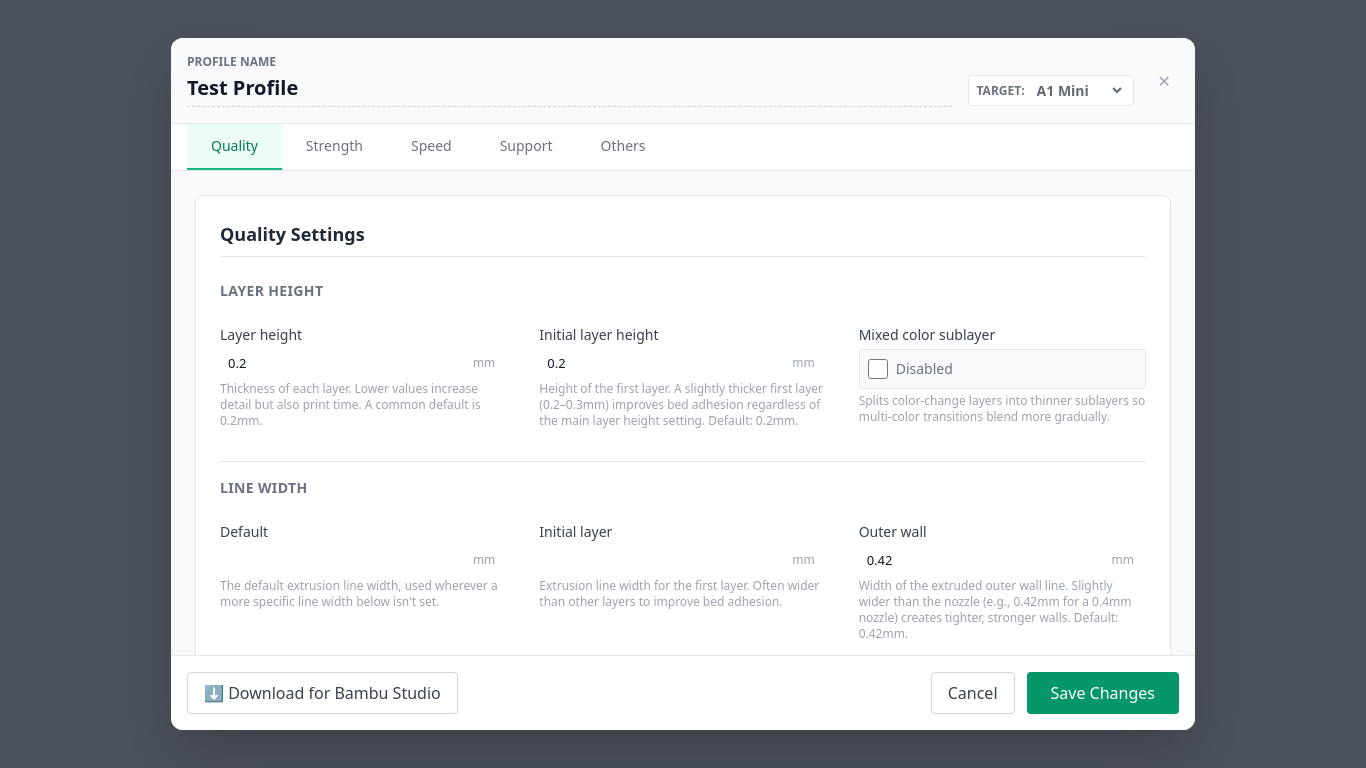
EditorModal — profile type › switching to Speed tab shows speed-specific fields
Click the button "Speed".
click(431, 147)  # box [387, 124, 476, 170]
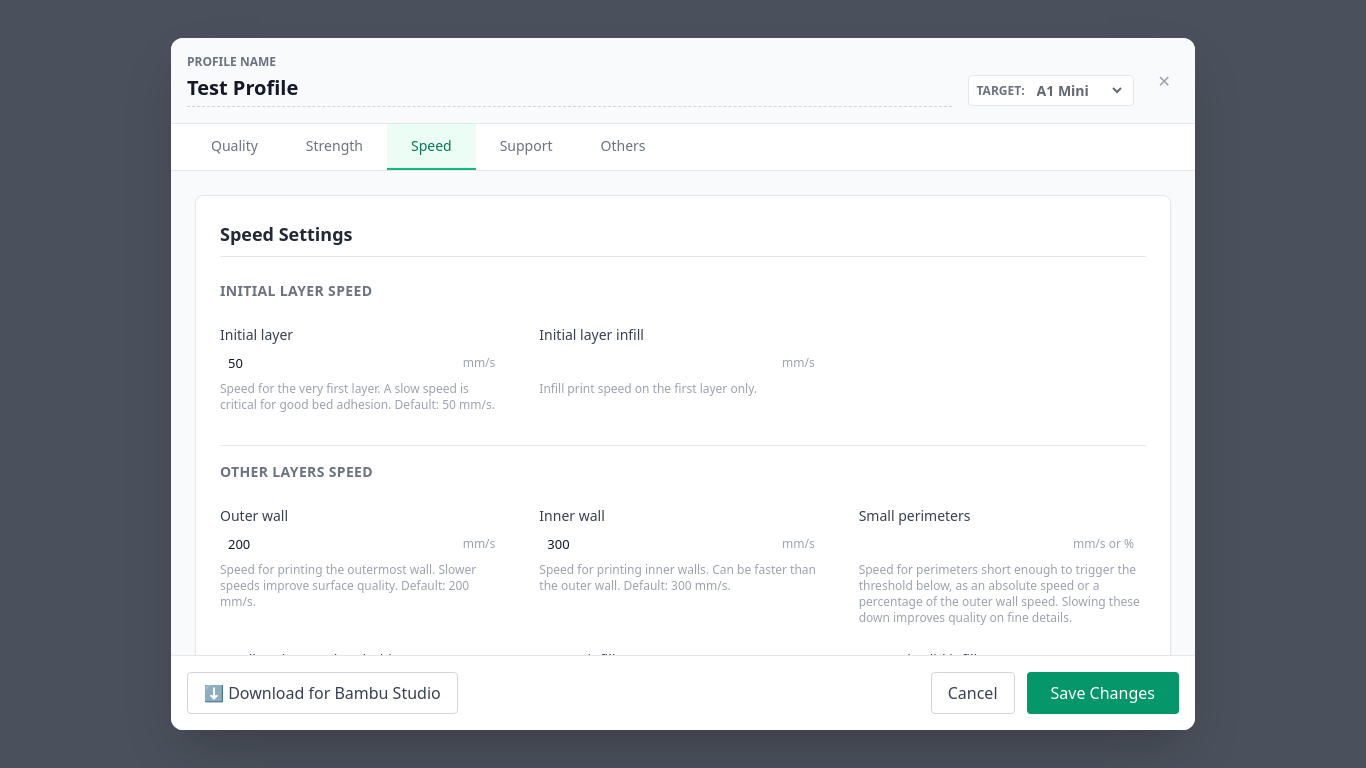
expect the text "Outer wall" is shown: met, box [220, 506, 288, 525]
expect the text "Initial layer speed" is shown: met, box [220, 281, 372, 300]
